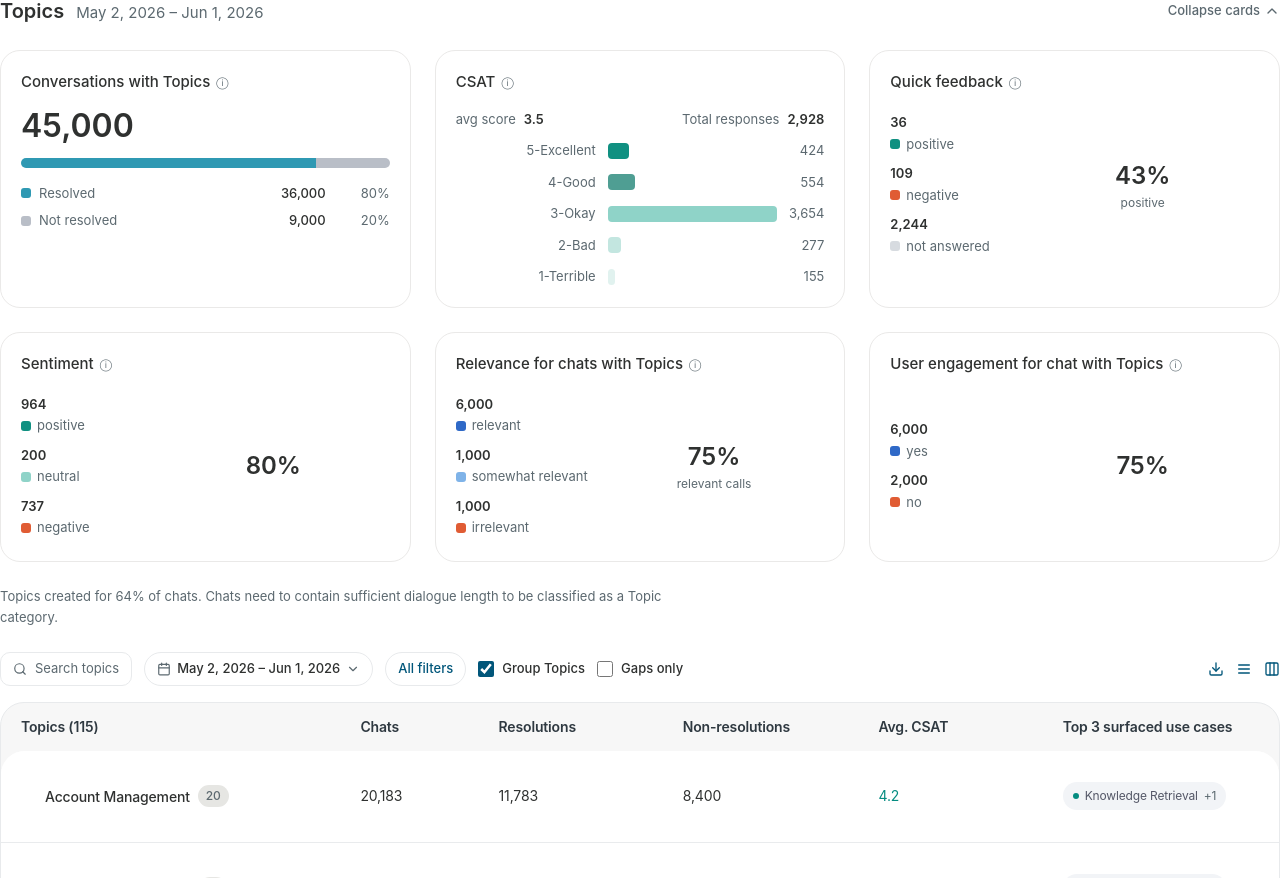
Scenario: AoTopicsView › flattens to the child topics with no expanders when Group Topics is cleared
Step 1. Click the checkbox labelled "Group Topics" → point(486, 669), box [478,661,494,677]
(page scrolled)
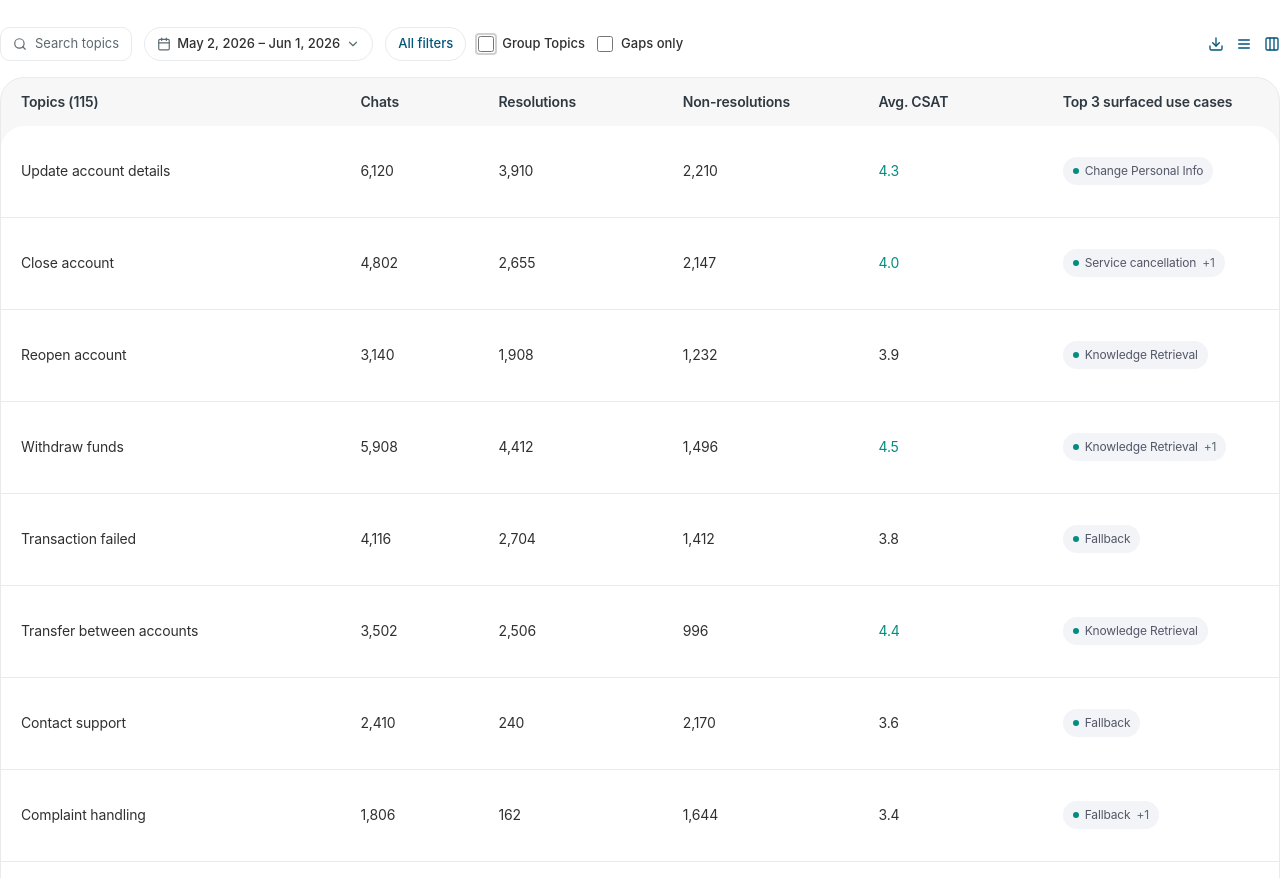
expect the button "Account Management" is gone: met
expect the text "Update account details" is shown: met, box [21,162,170,179]
expect the text "Withdraw funds" is shown: met, box [21,438,124,455]
